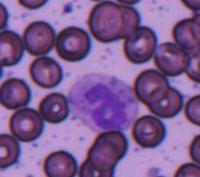N: (66, 72, 138, 132)
